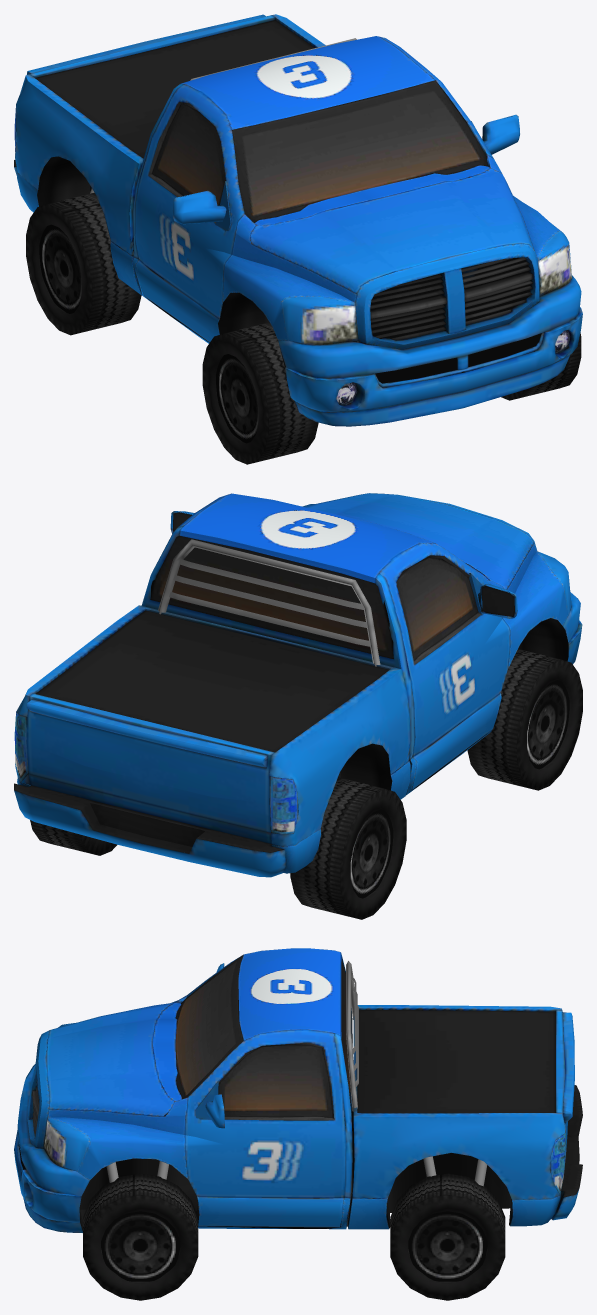
File: Car 3.glb
The picture shows the model from 3 angles, top to bottom: view 1: azimuth 30°, elevation 25°; view 2: azimuth 150°, elevation 25°; view 3: azimuth 270°, elevation 25°; orthographic projection. The views are drawn at different scales.
Parts seen in each view (by area): view 1: carShape_low, tireBackR_low_003, tireFrontR_low_003, tireFrontL_low_003; view 2: carShape_low, tireBackR_low_003, tireFrontR_low_003, tireBackL_low_003; view 3: carShape_low, tireBackL_low_003, tireFrontL_low_003.
Boxes of the visible parts, left/top/right/bottom form: carShape_low: left=14, top=14, right=582, bottom=426; tireBackR_low_003: left=26, top=192, right=141, bottom=335; tireFrontR_low_003: left=202, top=322, right=318, bottom=464; tireFrontL_low_003: left=501, top=332, right=581, bottom=400; carShape_low: left=14, top=493, right=582, bottom=877; tireBackR_low_003: left=290, top=777, right=406, bottom=919; tireFrontR_low_003: left=467, top=649, right=582, bottom=790; tireBackL_low_003: left=30, top=820, right=117, bottom=855; carShape_low: left=14, top=948, right=582, bottom=1232; tireBackL_low_003: left=390, top=1173, right=505, bottom=1300; tireFrontL_low_003: left=83, top=1173, right=198, bottom=1300.
Bounding box in the file's own units: 0.6894 × 0.5438 × 1.13.
Materials: 2 (2 with a texture image).
